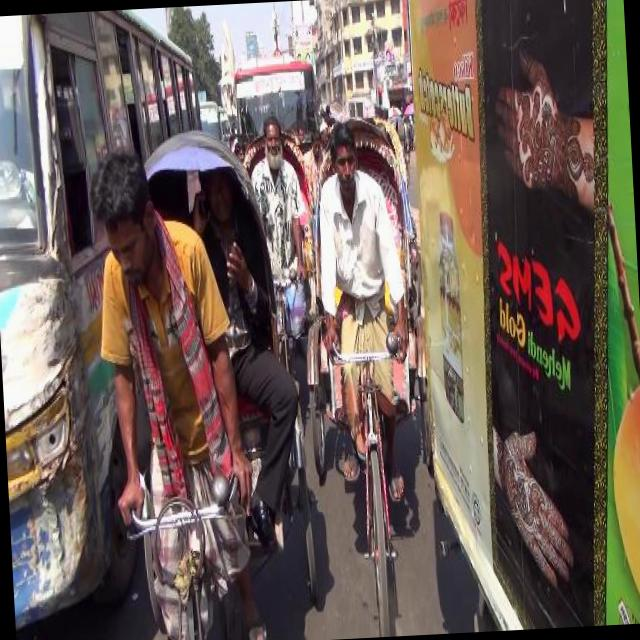motorcycle: (95, 118, 328, 640), (292, 104, 444, 638), (242, 121, 322, 382)
